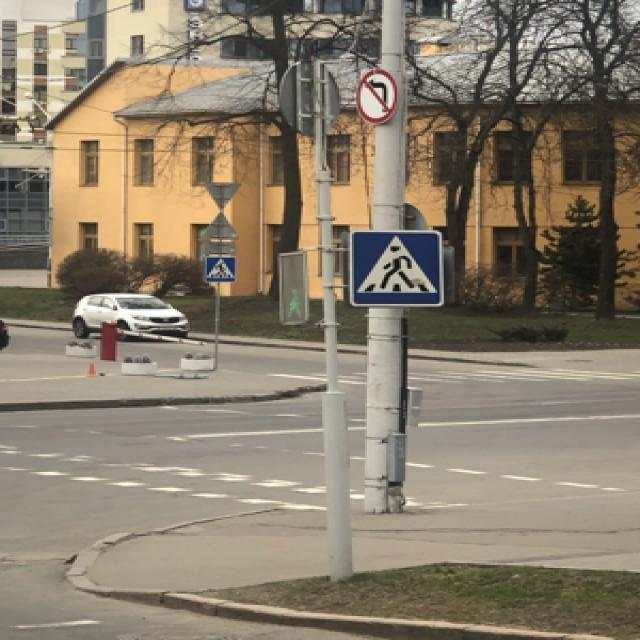crosswalk_sign: (346, 228, 448, 309), (202, 253, 238, 286)
